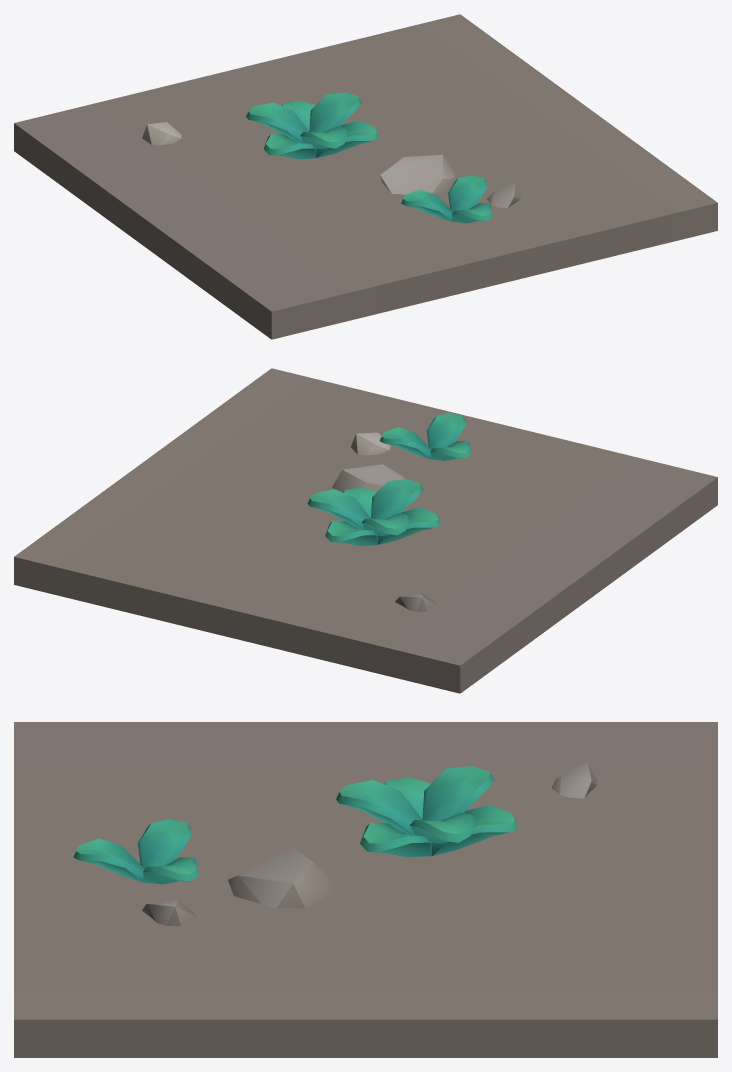
The model's file is b_donjon_sol_terre_herbes.glb.
3 renders of one model, top to bottom at view 1: azimuth 30°, elevation 25°; view 2: azimuth 150°, elevation 25°; view 3: azimuth 270°, elevation 25°, orthographic. The views are drawn at different scales.
Visible parts, largest first — view 1: b_donjon_sol_terre_herbes; view 2: b_donjon_sol_terre_herbes; view 3: b_donjon_sol_terre_herbes.
Boxes of the visible parts, bbox=[...] form: b_donjon_sol_terre_herbes: bbox=[14, 14, 717, 339]; b_donjon_sol_terre_herbes: bbox=[14, 368, 717, 693]; b_donjon_sol_terre_herbes: bbox=[14, 722, 717, 1057].
Bounding box in the file's own units: 2 × 0.2954 × 2.
Materials: 1 (1 with a texture image).
